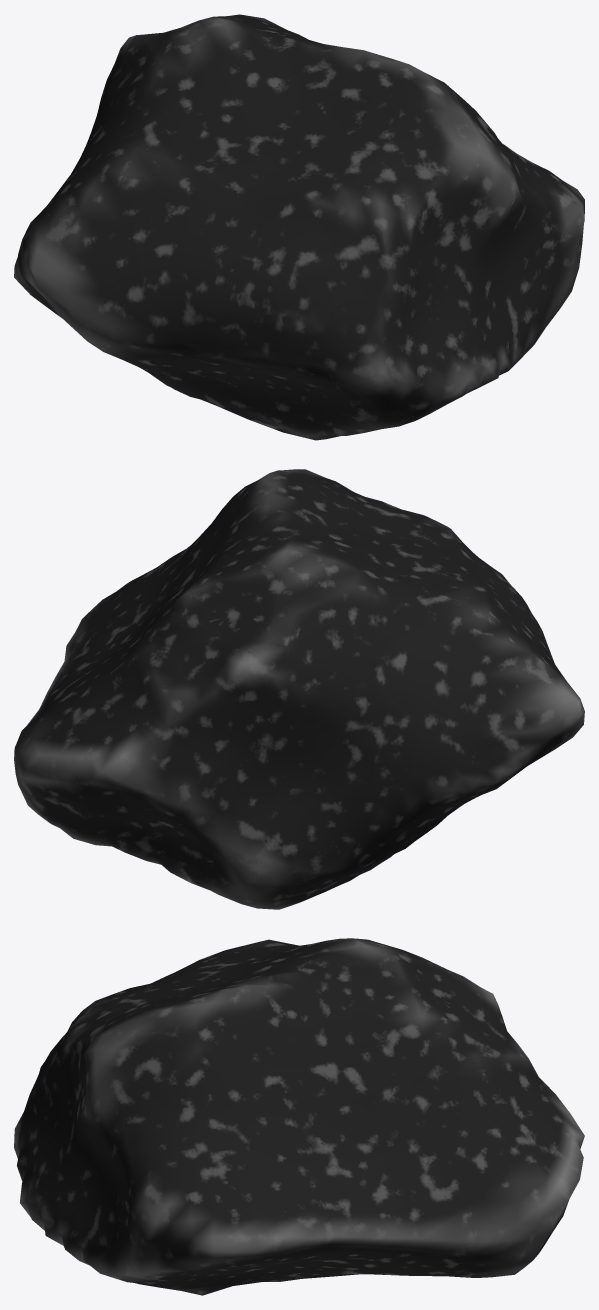
Rendered from lunar_rock8.glb.
3 views of the same model, one above another, from view 1: azimuth 30°, elevation 25°; view 2: azimuth 150°, elevation 25°; view 3: azimuth 270°, elevation 25° (orthographic). The views are drawn at different scales.
Visible parts, largest first — view 1: lunar_rock_8; view 2: lunar_rock_8; view 3: lunar_rock_8.
Boxes of the visible parts, x1,y1,x2,y2 form: lunar_rock_8: [14, 14, 584, 440]; lunar_rock_8: [14, 469, 584, 909]; lunar_rock_8: [14, 938, 584, 1295].
Size of the model in its own units: 0.1421 by 0.0899 by 0.1416.
1 material, 1 textured.
